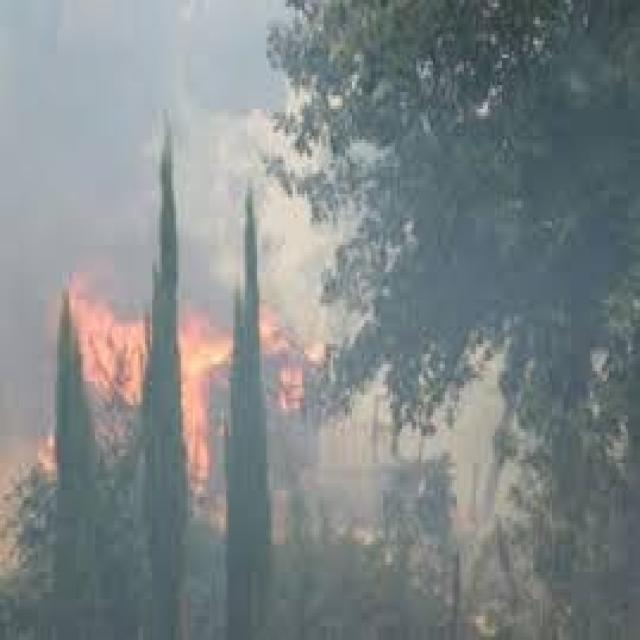Fire: (176, 316, 236, 473), (67, 288, 144, 398), (256, 305, 310, 408)
